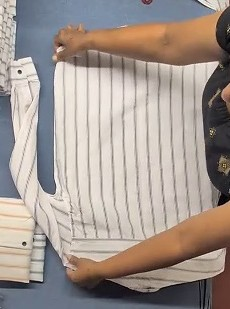T_SHIRT: (6, 74, 230, 282)
